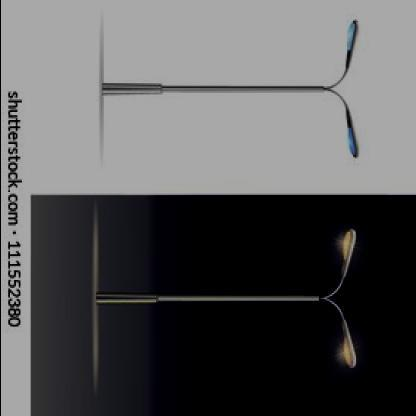on: (17, 15, 416, 416)
